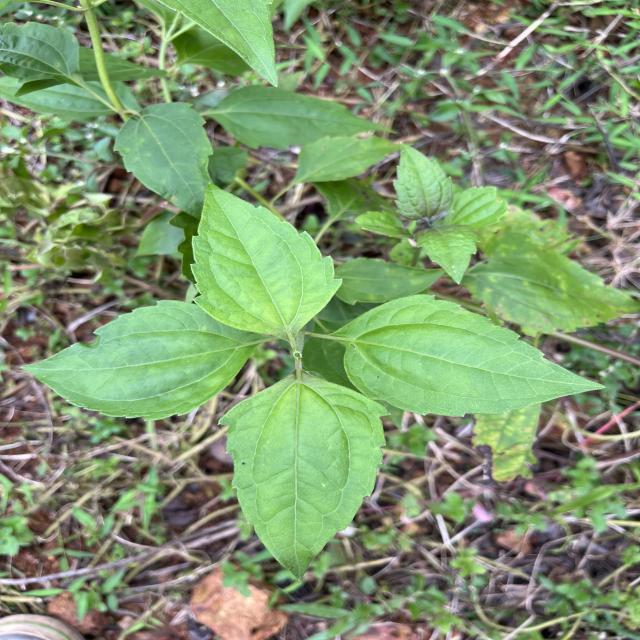Chromolaena odorata: (213, 366, 396, 584), (323, 291, 609, 421), (13, 292, 266, 424), (184, 174, 346, 345)
